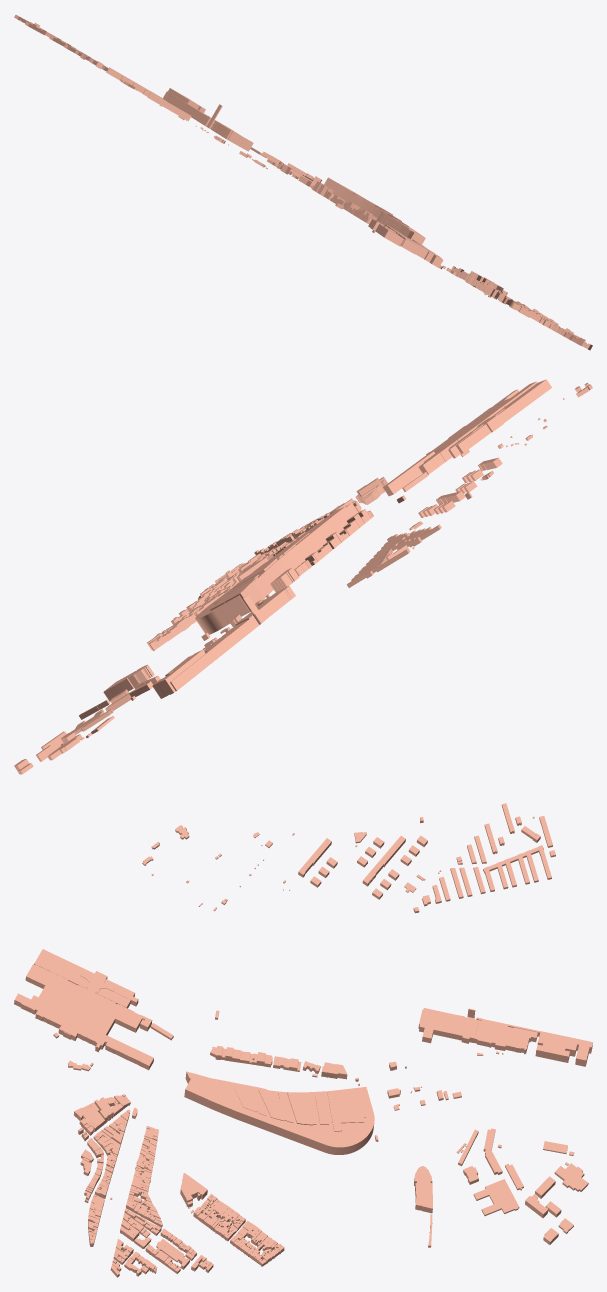
3 renders of one model, top to bottom at view 1: azimuth 30°, elevation 25°; view 2: azimuth 150°, elevation 25°; view 3: azimuth 270°, elevation 25°, orthographic. The views are drawn at different scales.
Size of the model in its own units: 1084 by 770 by 1403.
